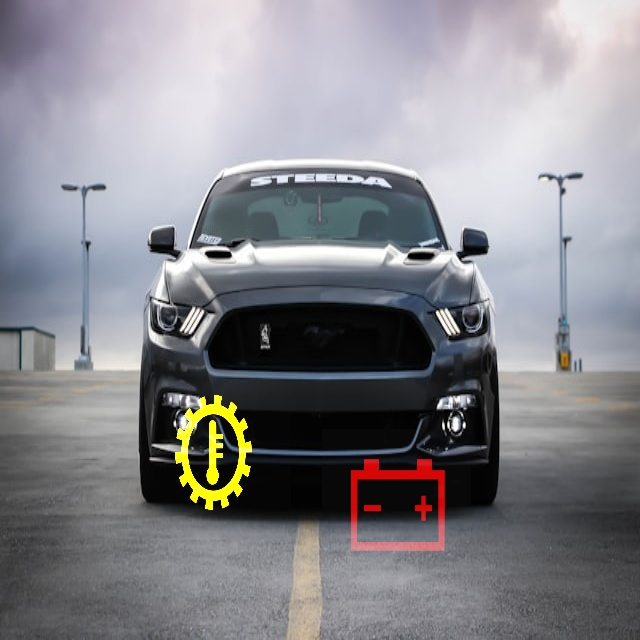symbol: (135, 372, 291, 528), (322, 429, 471, 578)
